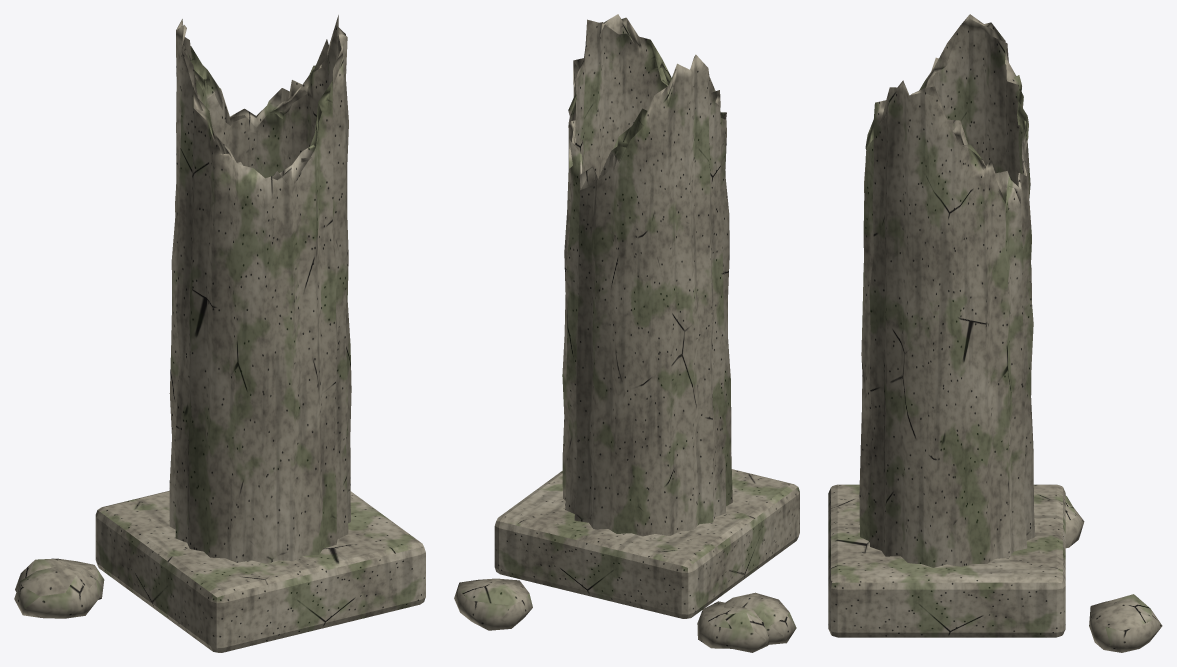
Rendered from ENV_Forest_RuinPillar.fbx.
The picture shows the model from 3 angles, left to right: view 1: azimuth 30°, elevation 25°; view 2: azimuth 150°, elevation 25°; view 3: azimuth 270°, elevation 25°; orthographic projection. The views are drawn at different scales.
Visible parts, largest first — view 1: ENV_Forest_RuinPillar; view 2: ENV_Forest_RuinPillar; view 3: ENV_Forest_RuinPillar.
Part boxes in pixels (x1,y1,x2,y2): ENV_Forest_RuinPillar: [14, 15, 425, 652]; ENV_Forest_RuinPillar: [454, 14, 799, 652]; ENV_Forest_RuinPillar: [828, 14, 1162, 652].
Size of the model in its own units: 0.9465 by 1.69 by 0.9122.
